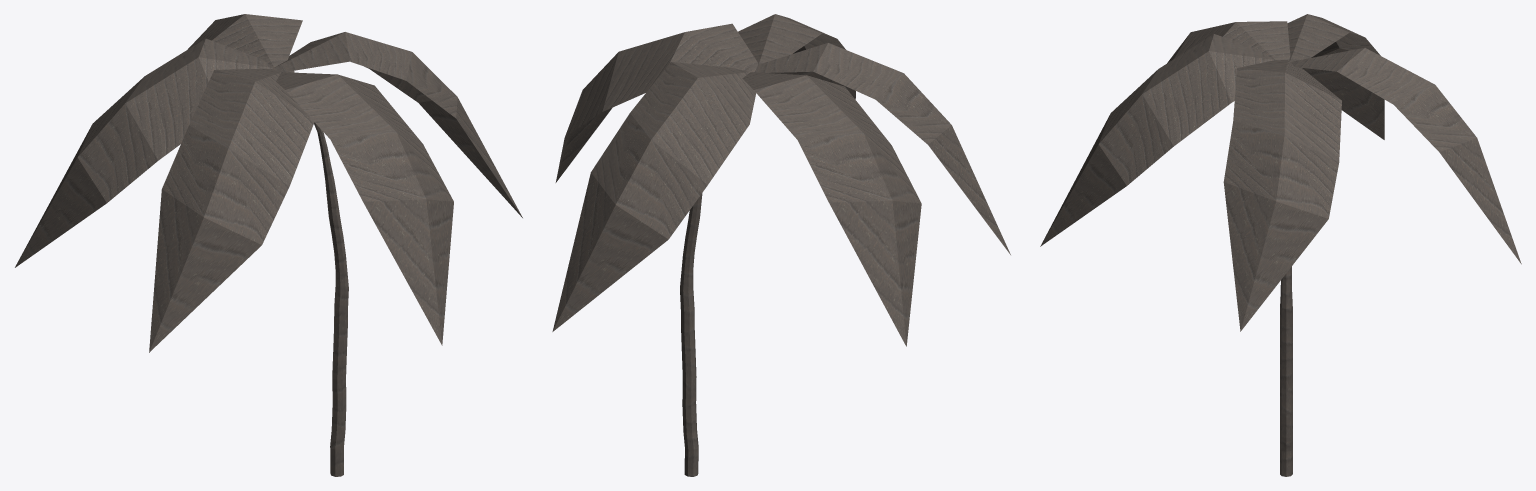
File: Palmera.fbx
The picture shows the model from 3 angles, left to right: view 1: azimuth 30°, elevation 25°; view 2: azimuth 150°, elevation 25°; view 3: azimuth 270°, elevation 25°; orthographic projection. The views are drawn at different scales.
Visible parts, largest first — view 1: Leaf, Tallo; view 2: Leaf, Tallo; view 3: Leaf, Tallo.
Part boxes in pixels (x1,y1,x2,y2): Leaf: (15,14,522,352); Tallo: (314,122,348,476); Leaf: (552,14,1010,346); Tallo: (680,193,702,476); Leaf: (1040,14,1521,331); Tallo: (1280,266,1292,476).
Bounding box in the file's own units: 6.11 × 5.98 × 6.45.
Materials: 1 (1 with a texture image).
